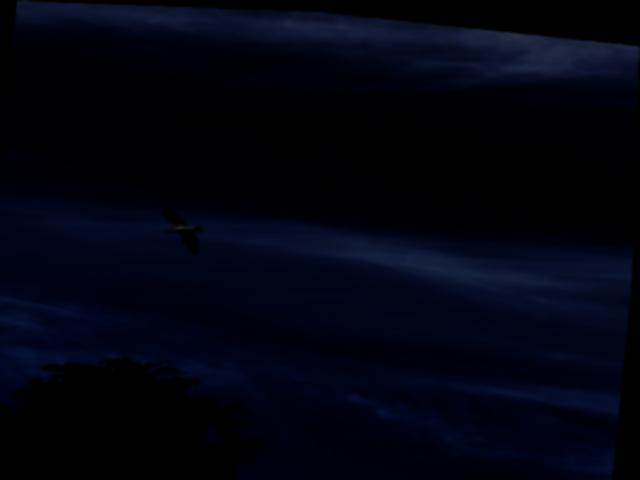bird: (138, 201, 228, 255)
